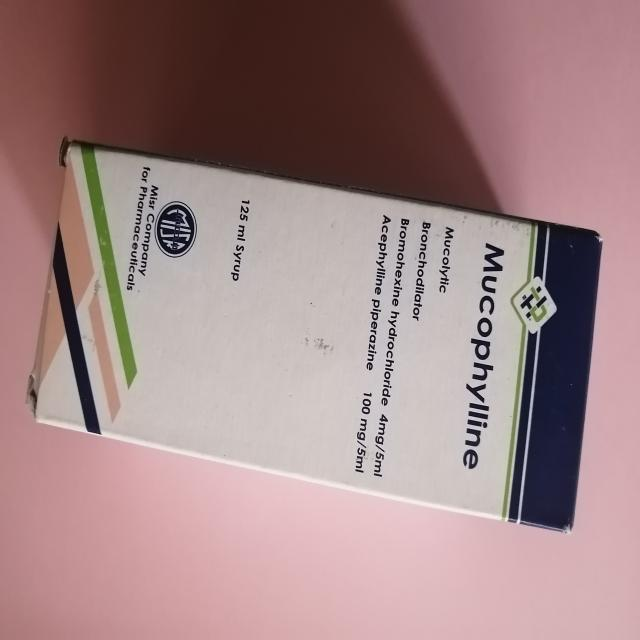Medicine: (23, 132, 603, 536)
